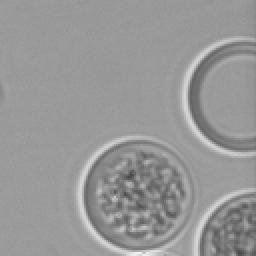picoshell: (76, 136, 194, 252), (180, 38, 254, 156), (192, 188, 254, 254)
